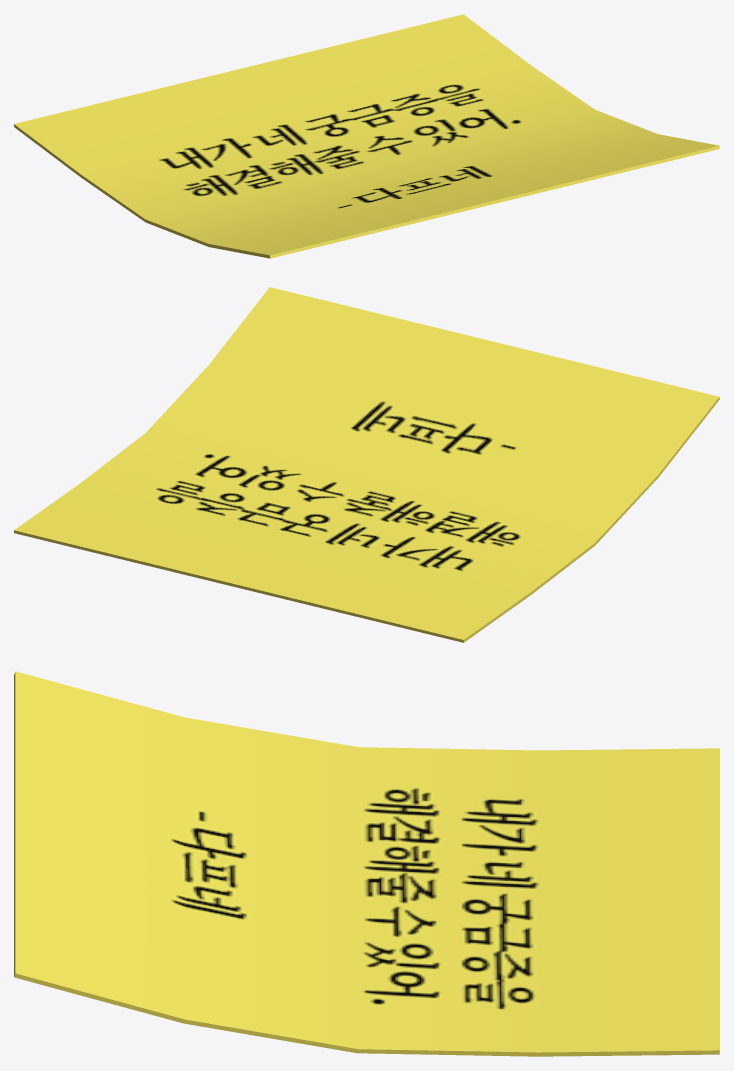
Rendered from SM_Clue_Stage2_Memo.fbx.
The picture shows the model from 3 angles, top to bottom: view 1: azimuth 30°, elevation 25°; view 2: azimuth 150°, elevation 25°; view 3: azimuth 270°, elevation 25°; orthographic projection. The views are drawn at different scales.
Visible parts, largest first — view 1: SM_Prop_Clue_Stage2_Memo; view 2: SM_Prop_Clue_Stage2_Memo; view 3: SM_Prop_Clue_Stage2_Memo.
Boxes of the visible parts, x1,y1,x2,y2 form: SM_Prop_Clue_Stage2_Memo: (14, 14, 719, 258); SM_Prop_Clue_Stage2_Memo: (14, 287, 719, 642); SM_Prop_Clue_Stage2_Memo: (14, 671, 719, 1056).
Size of the model in its own units: 6.47 by 0.8313 by 6.39.
1 material, 1 textured.
